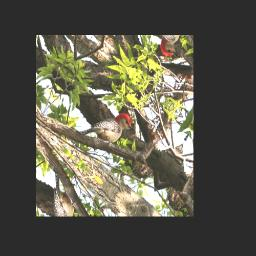Woodpecker: (76, 90, 141, 167)
